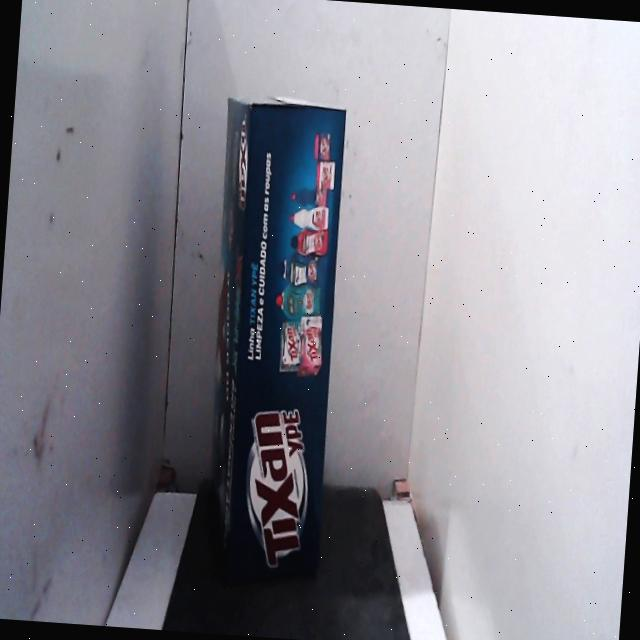papel: (185, 80, 362, 605)
